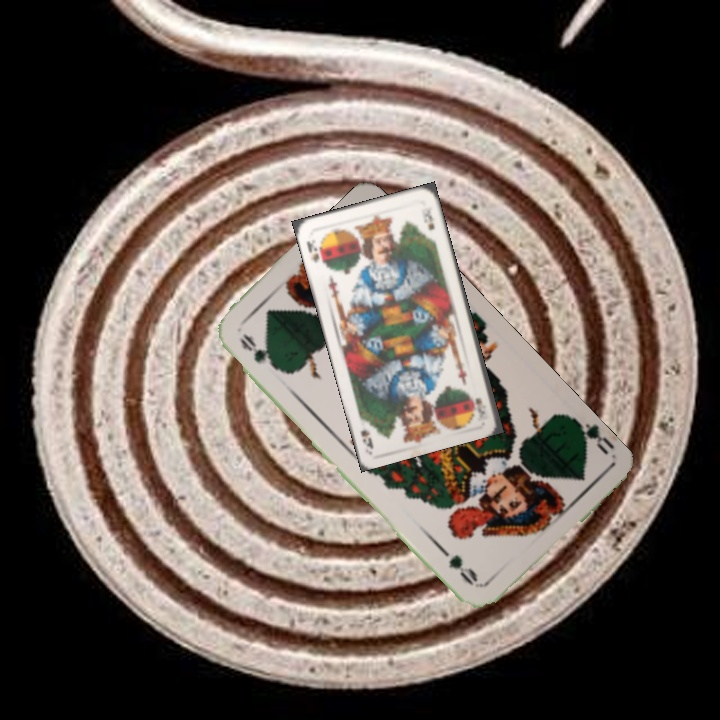GO: (234, 329, 283, 374), (567, 413, 615, 458)
SK: (303, 237, 327, 266), (471, 394, 488, 419)
